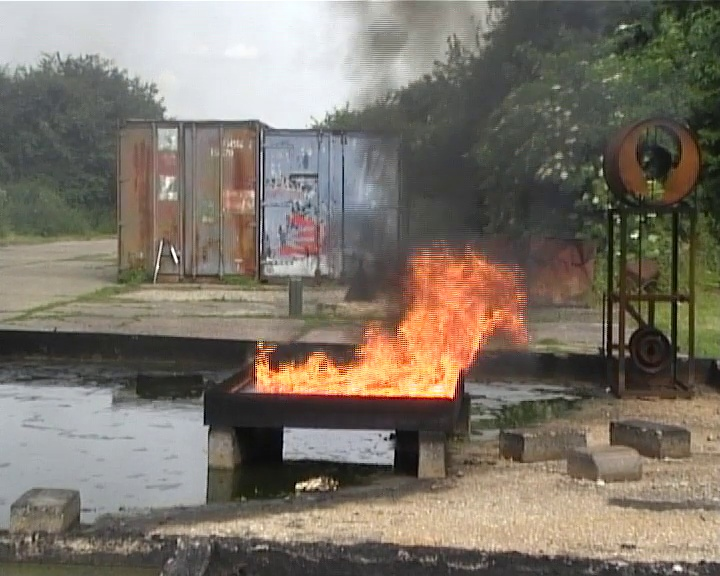fire: (252, 258, 517, 395)
